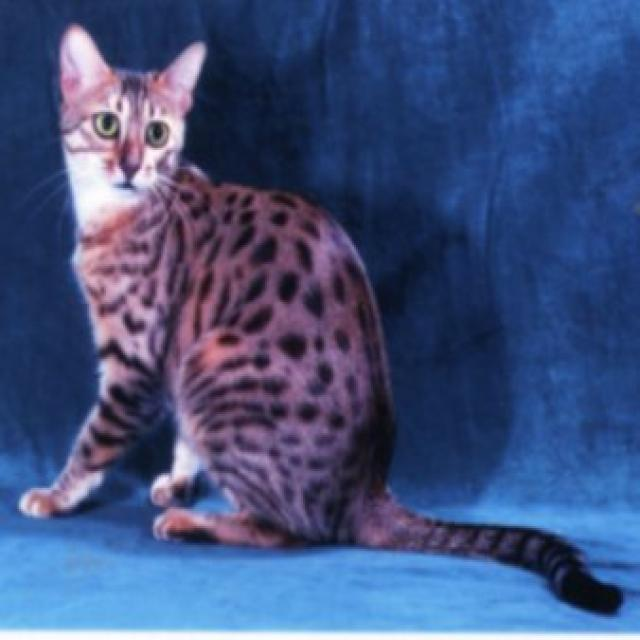Egyptian_Mau: (55, 24, 209, 202)
